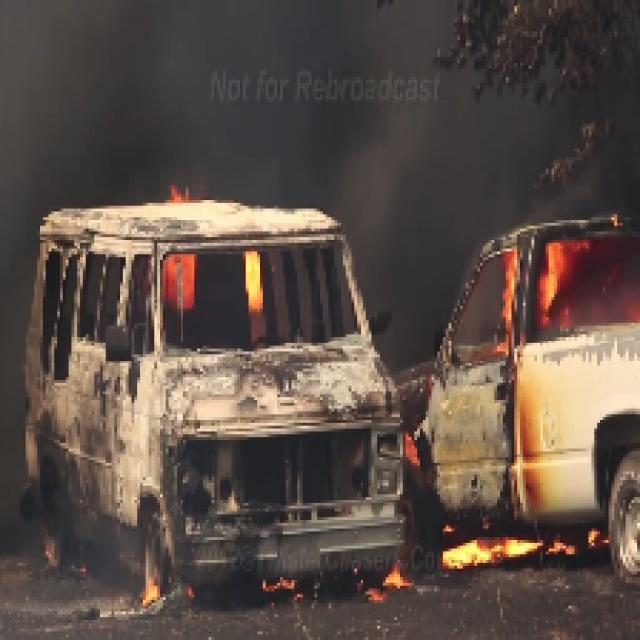Fire: (417, 203, 640, 583), (154, 182, 334, 378)
Smoke: (8, 0, 640, 177)
